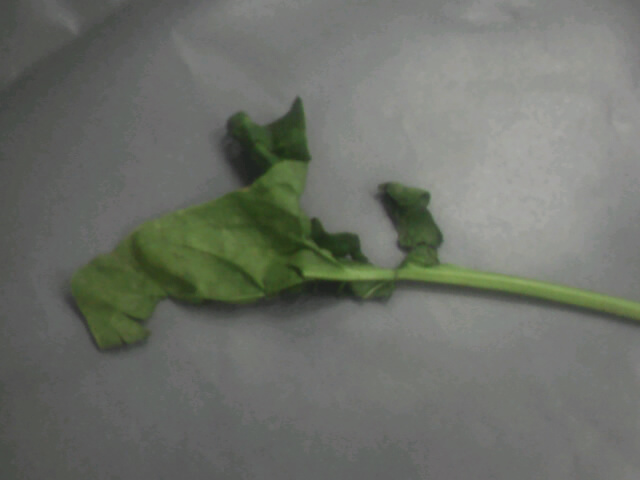yellow: (54, 85, 494, 359)
